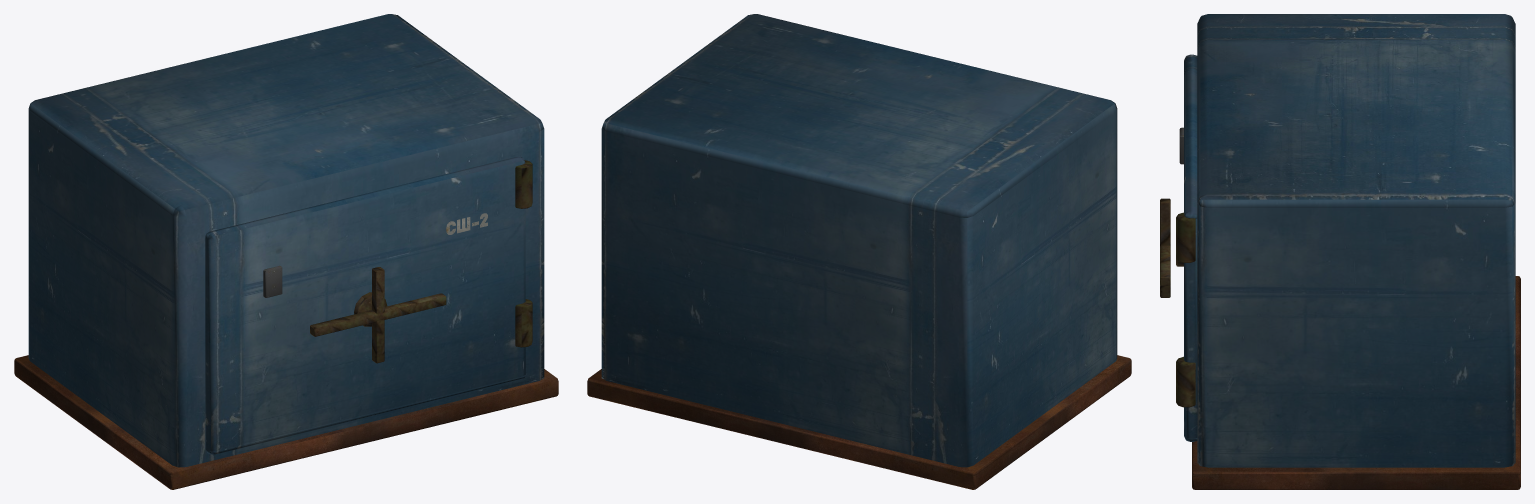
The model's file is loot_crate_safe.glb.
3 renders of one model, left to right at view 1: azimuth 30°, elevation 25°; view 2: azimuth 150°, elevation 25°; view 3: azimuth 270°, elevation 25°, orthographic. The views are drawn at different scales.
Parts seen in each view (by area): view 1: box, box.001, box.007, box.004, box.002, box.003, cyl.001, cyl, box.006; view 2: box, box.007; view 3: box, box.007, box.001, cyl, cyl.001, box.004, box.002.
Part boxes in pixels (x1,y1,x2,y2): box: [28, 14, 544, 467]; box.001: [205, 157, 525, 454]; box.007: [14, 355, 558, 489]; box.004: [372, 267, 384, 363]; box.002: [357, 293, 446, 325]; box.003: [310, 304, 401, 336]; cyl.001: [515, 160, 532, 208]; cyl: [515, 299, 532, 347]; box.006: [263, 265, 282, 297]; box: [601, 14, 1117, 467]; box.007: [587, 355, 1131, 489]; box: [1197, 14, 1515, 467]; box.007: [1192, 276, 1520, 489]; box.001: [1184, 54, 1197, 441]; cyl: [1176, 356, 1195, 407]; cyl.001: [1176, 212, 1195, 262]; box.004: [1160, 198, 1170, 297]; box.002: [1160, 246, 1170, 285].
Size of the model in its own units: 0.88 by 0.6 by 0.68.
Materials: 5 (5 with a texture image).
